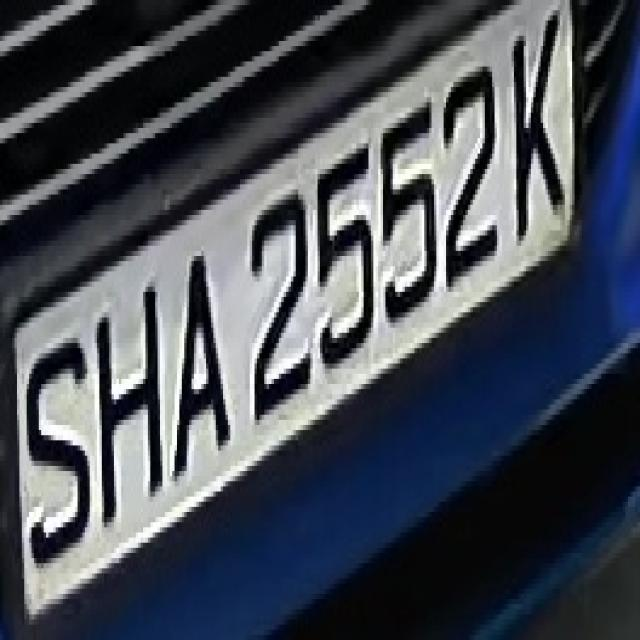2: (245, 189, 313, 415), (438, 66, 506, 292)
5: (374, 92, 442, 323), (312, 138, 376, 379)
A: (158, 230, 238, 487)
H: (87, 266, 172, 517)
K: (507, 10, 565, 251)
S: (20, 317, 92, 568)
